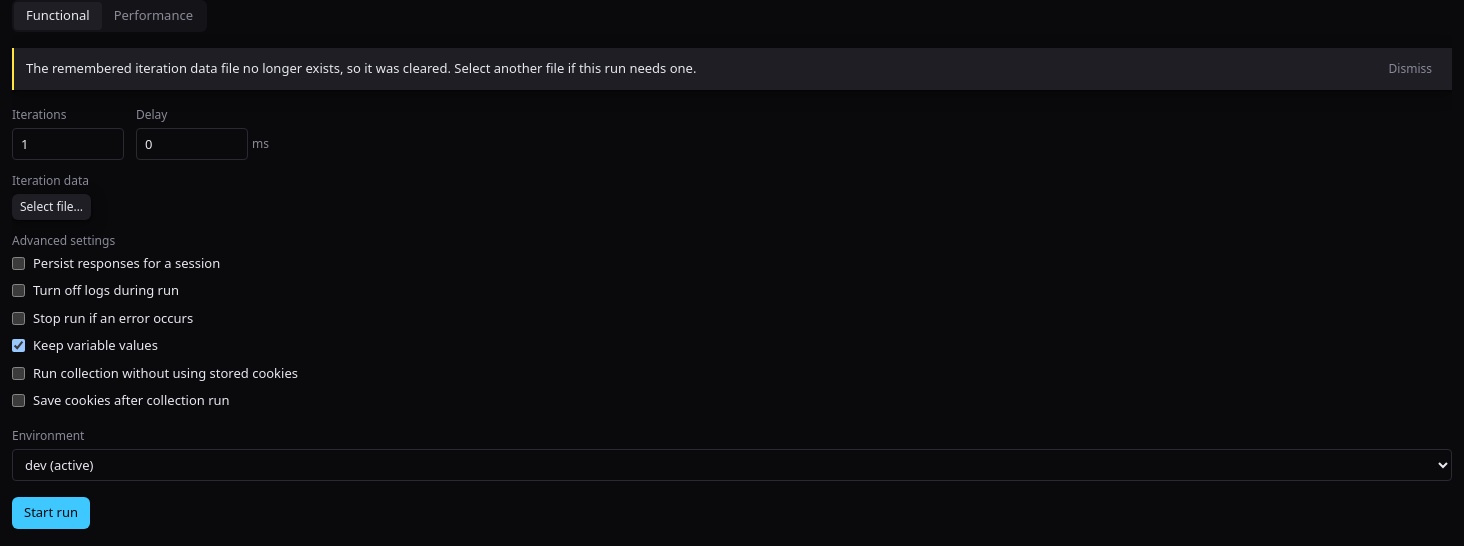
RunSettings › notes a remembered data file that no longer exists
This screenshot has width=1464, height=546.
Expected: the message shows "no longer exists", [26,59,696,77]
Click the button "Dismiss": (1410, 68) [1381,56,1440,82]
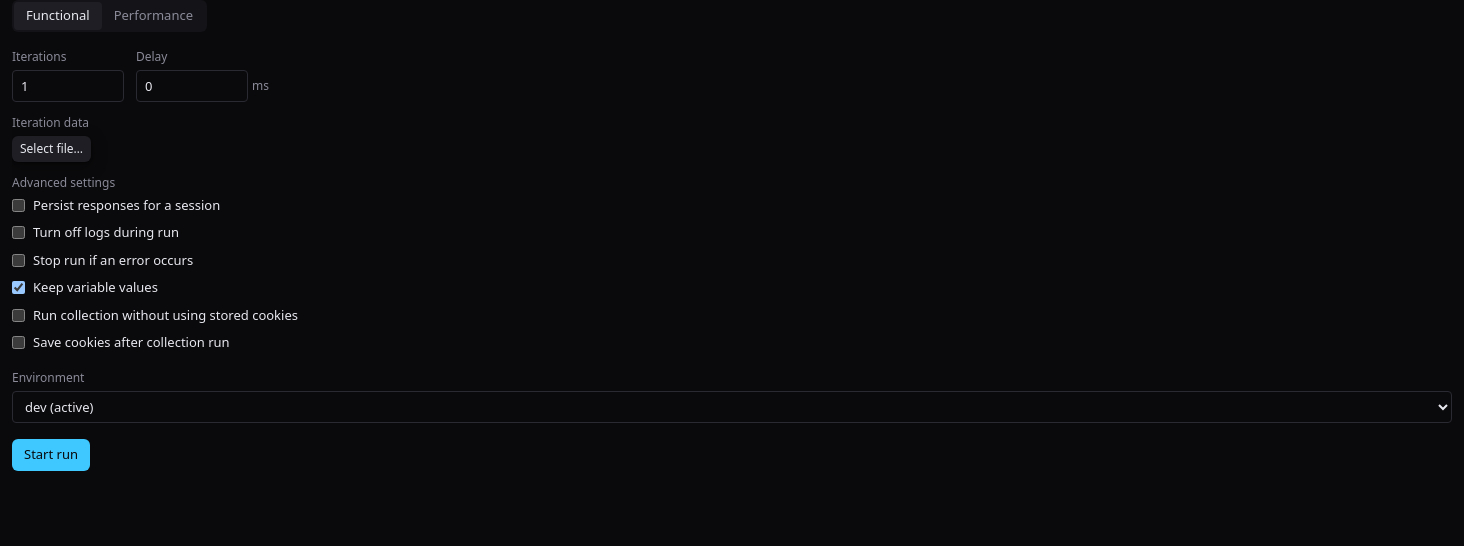
Expected: the text "no longer exists" is gone
